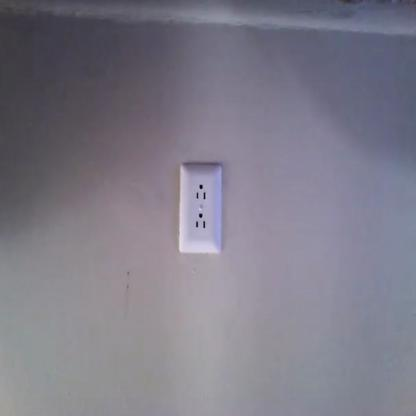OUTLET: (178, 162, 223, 255)
